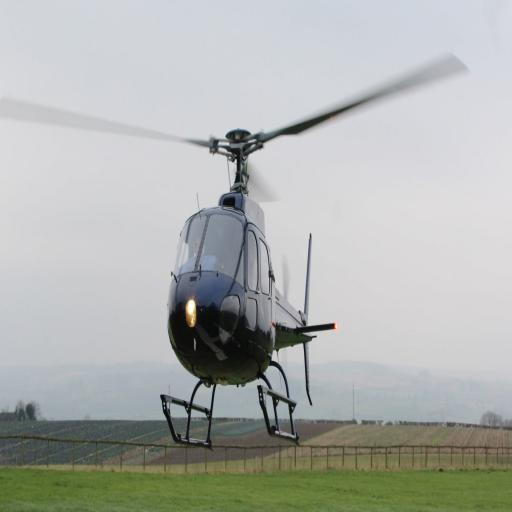helicopter: (110, 47, 476, 466)
